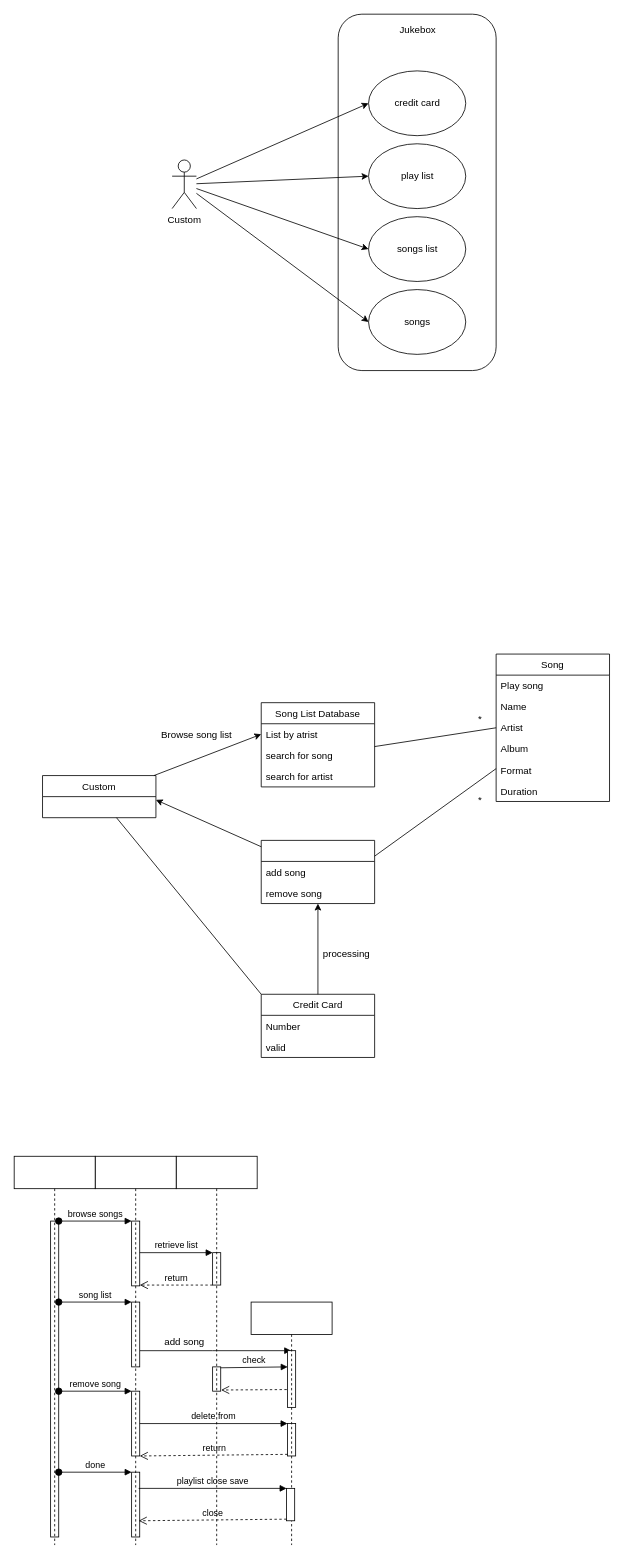
The diagram is 624 pixels wide and 1559 high, and some of its shapes have lost their labels. The box of each missing label's shape, as (x1, y1, x2, y2) in pixels:
:GUI: (94, 1155, 176, 1545)
:Playlist: (250, 1301, 332, 1545)
:Song List: (175, 1155, 257, 1545)
Customer: (13, 1155, 95, 1545)
Playlist: (260, 840, 375, 904)
